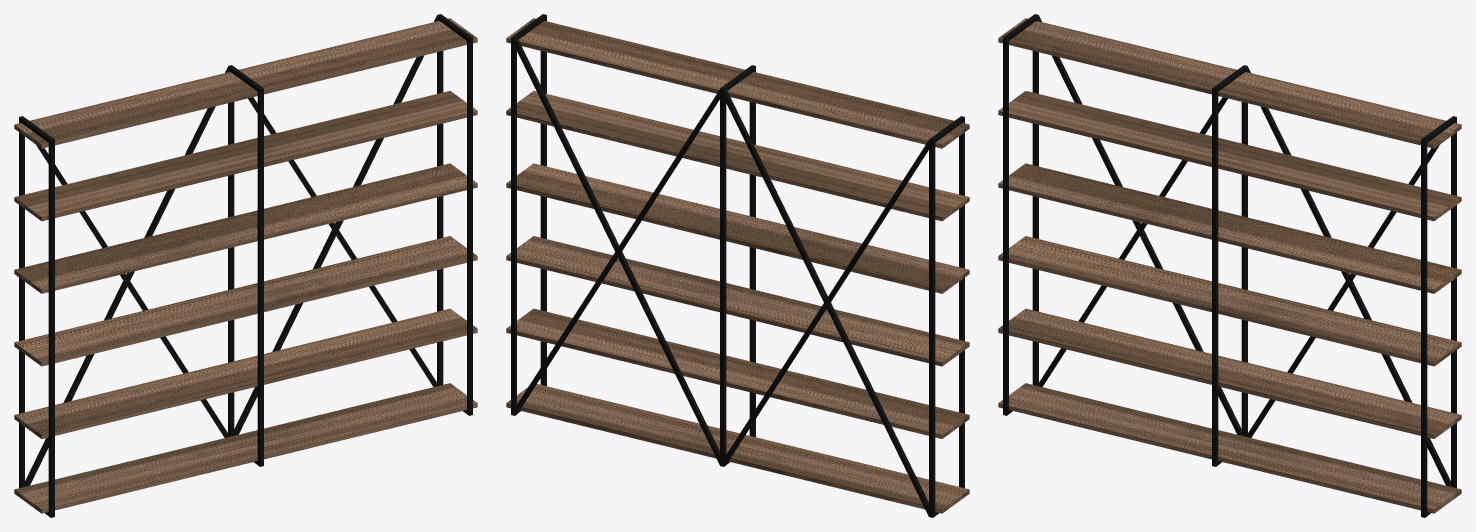
File: uploads_files_3313367_rack.fbx
3 renders of one model, left to right at view 1: azimuth 30°, elevation 25°; view 2: azimuth 150°, elevation 25°; view 3: azimuth 330°, elevation 25°, orthographic.
Visible parts, largest first — view 1: Cube.003, Cube, Cube.009, Cube.010, Cube.004, Cube.005, Cube.019, Cube.013, Cube.018, Cube.014, Cube.006, Cube.015 (+1 smaller); view 2: Cube.005, Cube, Cube.003, Cube.004, Cube.009, Cube.010, Cube.018, Cube.013, Cube.019, Cube.014, Cube.006, Cube.012 (+1 smaller); view 3: Cube.003, Cube, Cube.009, Cube.010, Cube.004, Cube.005, Cube.019, Cube.013, Cube.018, Cube.012, Cube.015, Cube.006 (+1 smaller).
Part boxes in pixels (x1=…): Cube.003: x1=14, y1=163, x2=477, y2=293; Cube: x1=14, y1=383, x2=477, y2=513; Cube.009: x1=14, y1=236, x2=477, y2=366; Cube.010: x1=14, y1=308, x2=477, y2=438; Cube.004: x1=14, y1=91, x2=477, y2=221; Cube.005: x1=14, y1=18, x2=477, y2=148; Cube.019: x1=48, y1=36, x2=472, y2=517; Cube.013: x1=228, y1=65, x2=263, y2=466; Cube.018: x1=19, y1=14, x2=443, y2=488; Cube.014: x1=25, y1=67, x2=230, y2=486; Cube.006: x1=234, y1=15, x2=439, y2=435; Cube.015: x1=36, y1=145, x2=229, y2=437; Cube.005: x1=506, y1=18, x2=969, y2=148; Cube: x1=506, y1=384, x2=969, y2=513; Cube.003: x1=506, y1=163, x2=969, y2=293; Cube.004: x1=506, y1=91, x2=969, y2=221; Cube.009: x1=506, y1=236, x2=969, y2=366; Cube.010: x1=506, y1=308, x2=969, y2=438; Cube.018: x1=511, y1=36, x2=935, y2=517; Cube.013: x1=720, y1=65, x2=755, y2=466; Cube.019: x1=540, y1=14, x2=964, y2=488; Cube.014: x1=722, y1=89, x2=928, y2=516; Cube.006: x1=515, y1=37, x2=719, y2=464; Cube.012: x1=512, y1=89, x2=723, y2=415; Cube.003: x1=998, y1=163, x2=1461, y2=293; Cube: x1=998, y1=383, x2=1461, y2=513; Cube.009: x1=998, y1=236, x2=1461, y2=366; Cube.010: x1=998, y1=308, x2=1461, y2=438; Cube.004: x1=998, y1=91, x2=1461, y2=221; Cube.005: x1=998, y1=18, x2=1461, y2=148; Cube.019: x1=1003, y1=36, x2=1427, y2=517; Cube.013: x1=1212, y1=65, x2=1247, y2=466; Cube.018: x1=1032, y1=14, x2=1456, y2=488; Cube.012: x1=1245, y1=67, x2=1450, y2=486; Cube.015: x1=1036, y1=15, x2=1241, y2=435; Cube.006: x1=1246, y1=145, x2=1439, y2=437.
Size of the model in its own units: 220 by 182 by 28.
